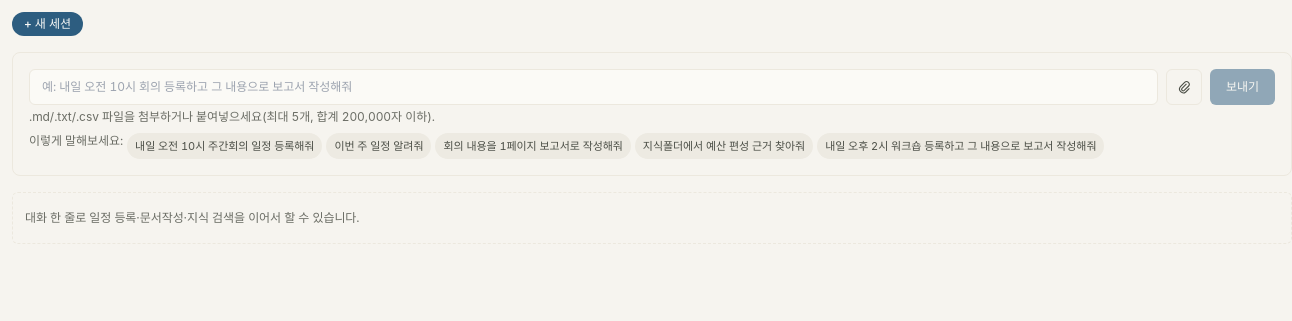
Test: routed_by 가 llm 이면 응답 카드에 AI 보조 분류 배지가 표시된다
Step 1. Type "지식폴더에서 예산 근거 찾아줘" into the field with placeholder "예: 내일 오전 10시 회의 등록하고 그 내용으로 보고서 작성해줘" → (594, 87), box [29,69,1158,105]
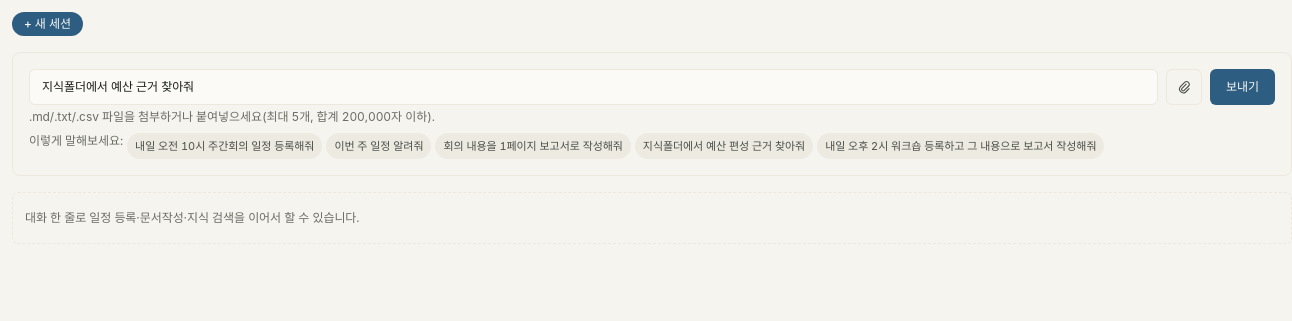
Step 2. Click the button "보내기" → (1243, 87), box [1210,69,1275,105]
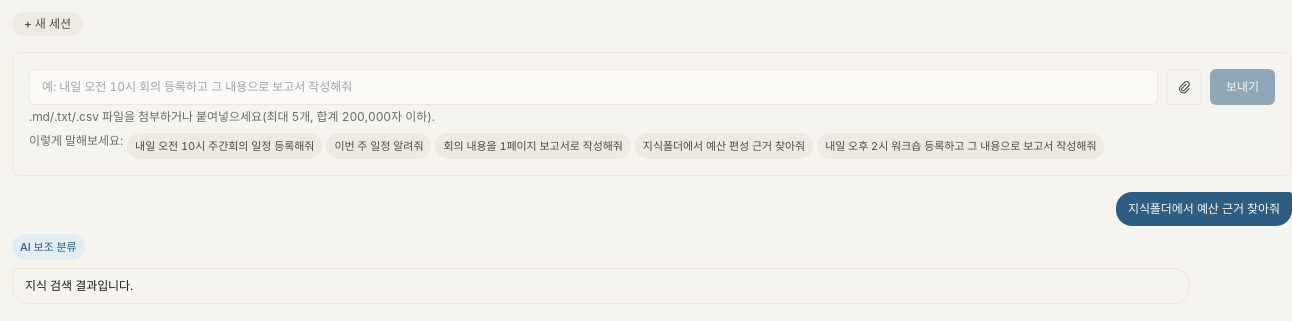
Now the text "AI 보조 분류" is shown, box [12,234,85,260]
